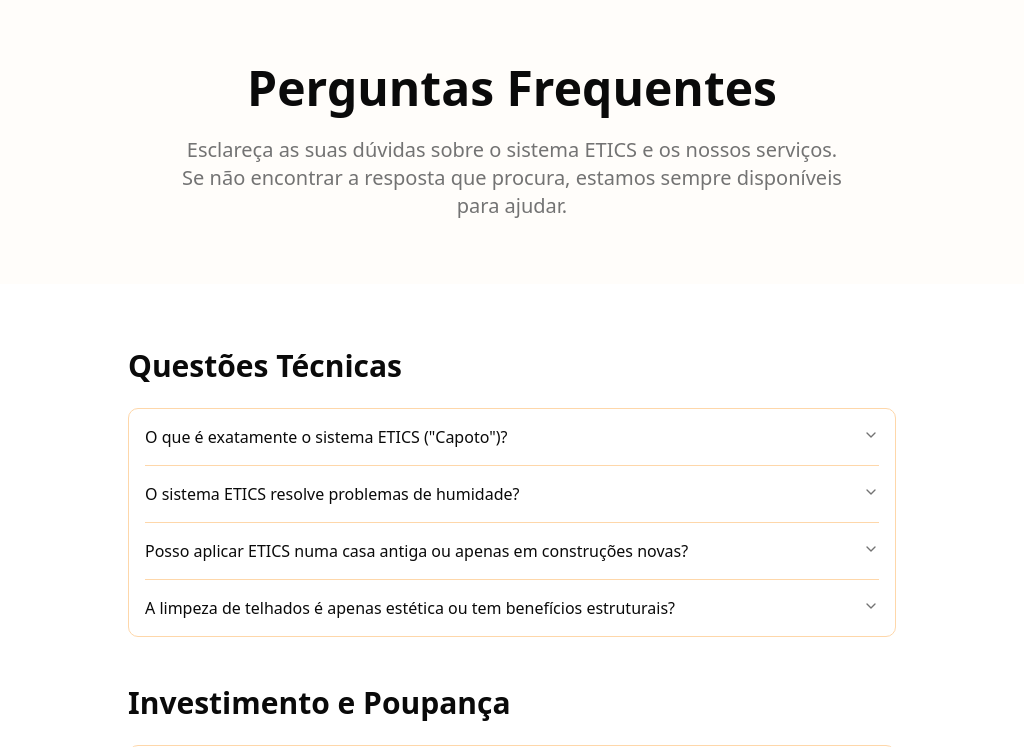
Test: FAQPage › expands FAQ item when clicked
The image size is (1024, 747).
Step 1. Click the button "O que é exatamente o sistema ETICS (\"Capoto\")?" → point(326, 437), box left=145, top=409, right=879, bottom=465
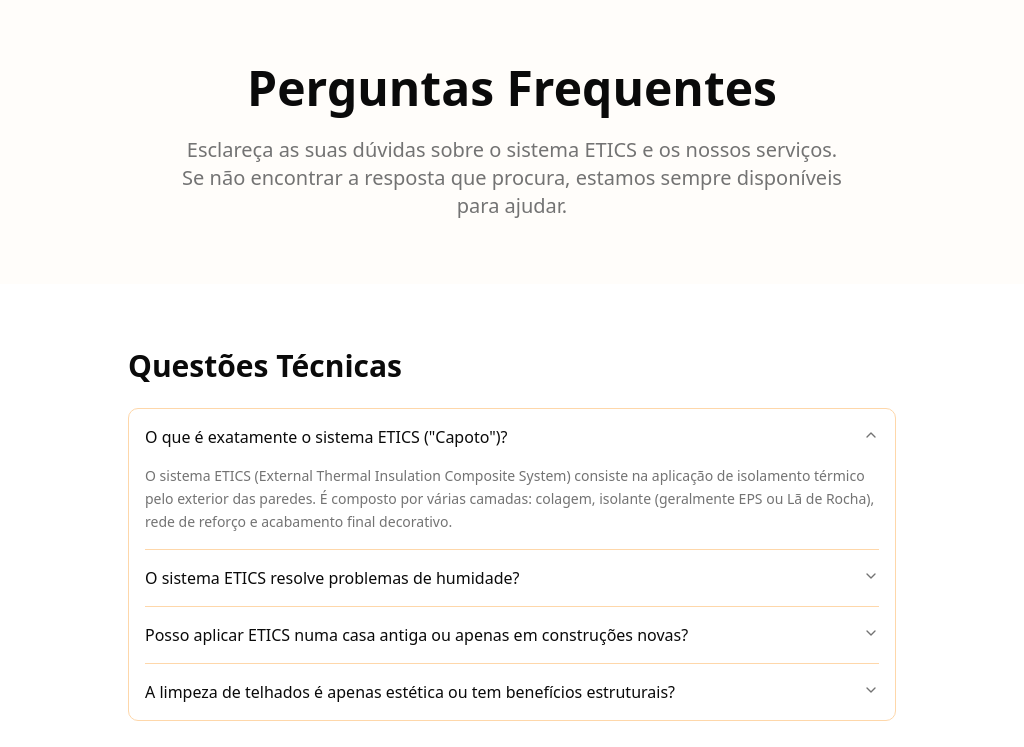
Expected: the text "External Thermal Insulation Composite System" is shown, left=145, top=466, right=874, bottom=530
